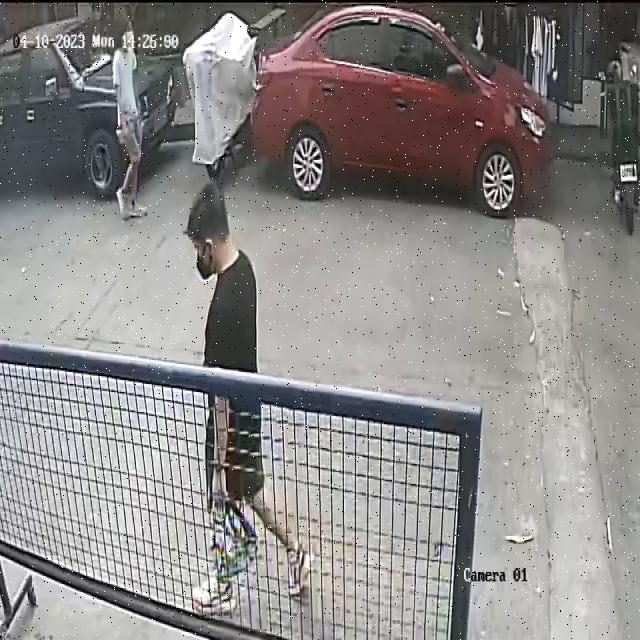human: (188, 182, 312, 608)
